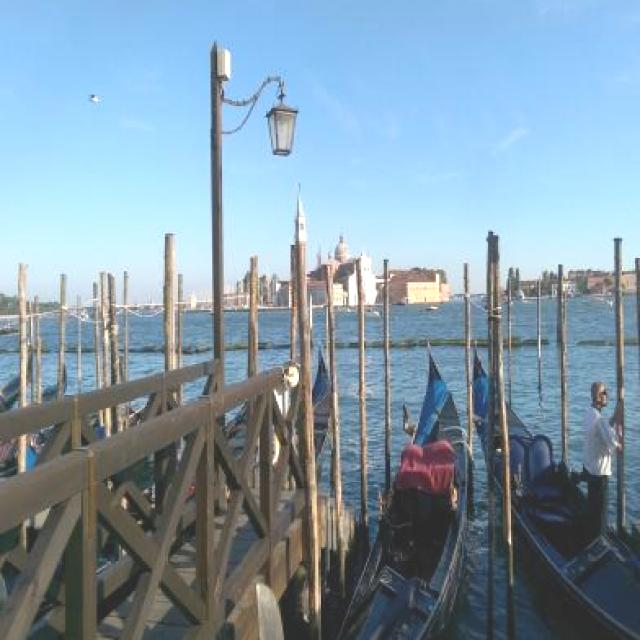ship: (468, 334, 640, 636), (335, 341, 467, 640), (286, 338, 331, 488)
